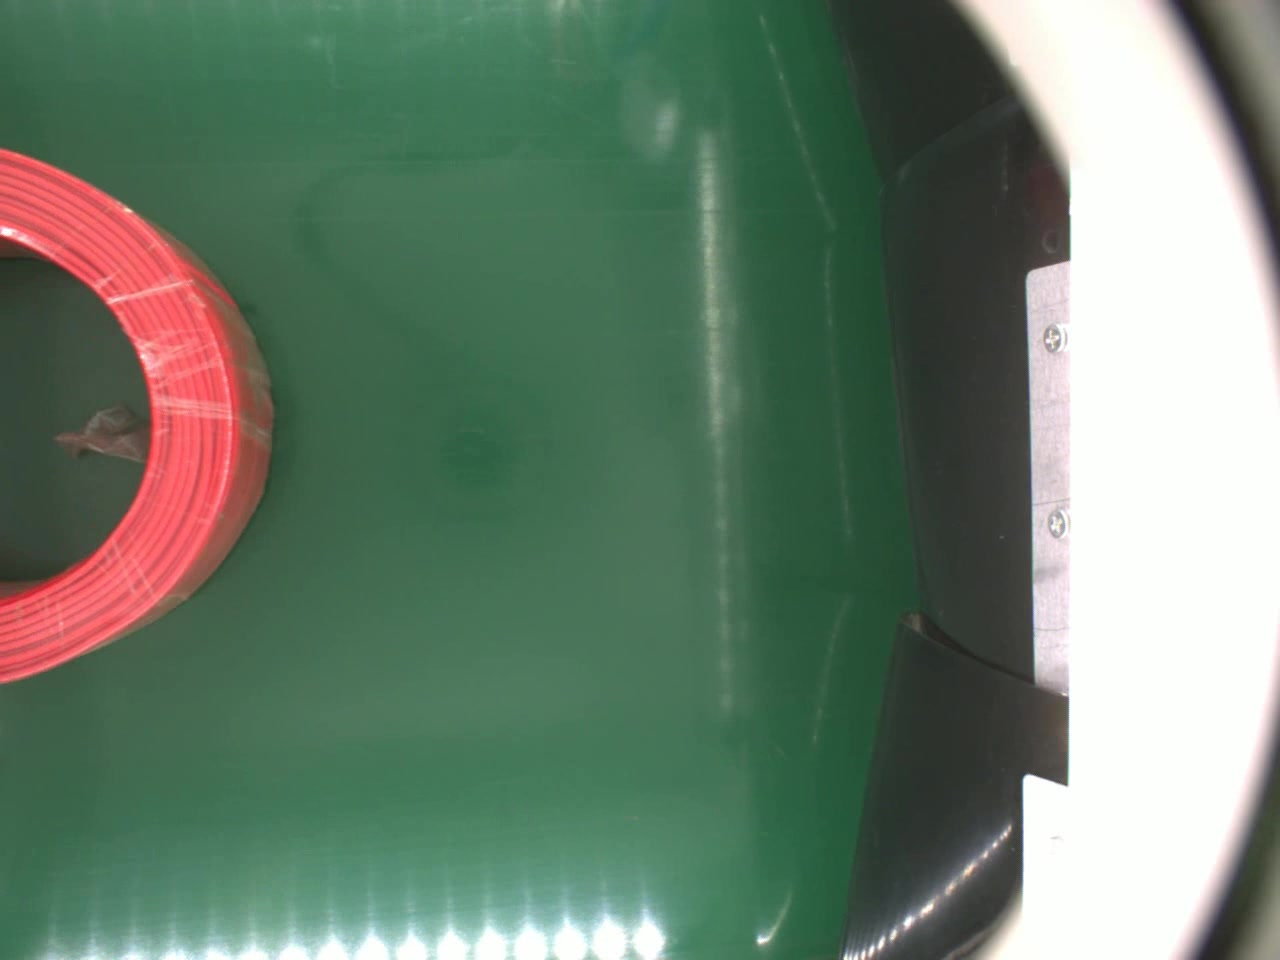red: (0, 144, 276, 681)
